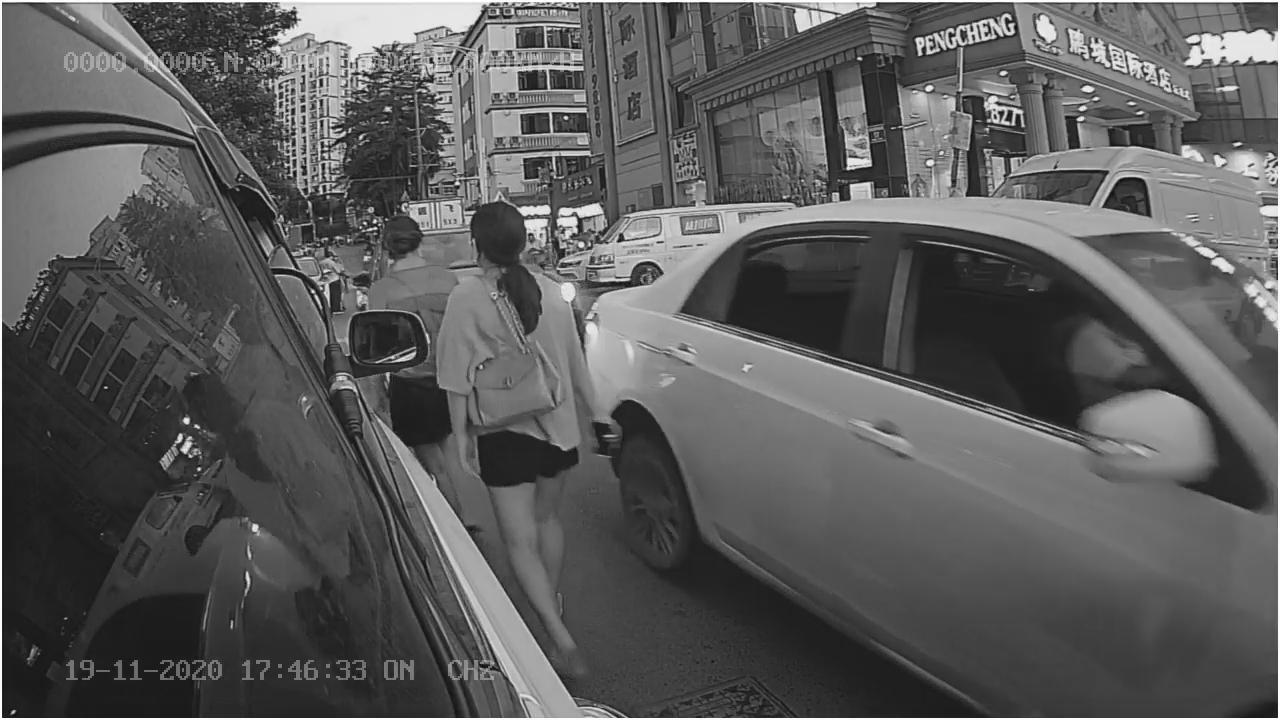person: (438, 199, 590, 480)
